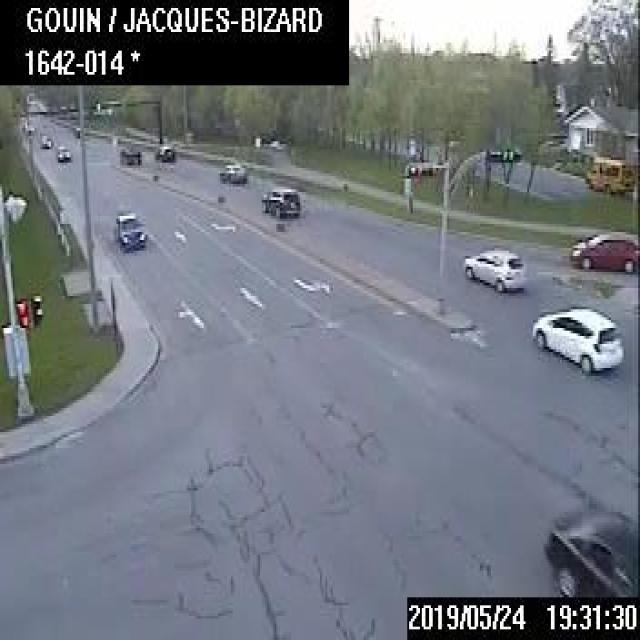bus: (584, 154, 634, 193)
vehicle: (542, 504, 638, 595), (529, 306, 622, 372), (569, 230, 638, 272), (463, 247, 523, 290), (114, 210, 146, 250), (260, 186, 298, 216), (218, 161, 245, 182), (118, 144, 140, 163), (153, 144, 174, 161), (56, 143, 69, 160), (37, 132, 49, 146), (23, 122, 33, 132), (70, 124, 78, 134)
